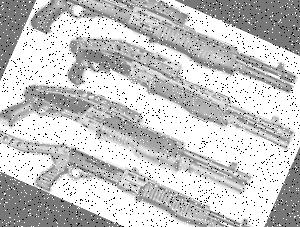shotgun: (0, 82, 259, 198), (60, 32, 300, 155), (24, 0, 300, 97), (0, 127, 264, 226)
